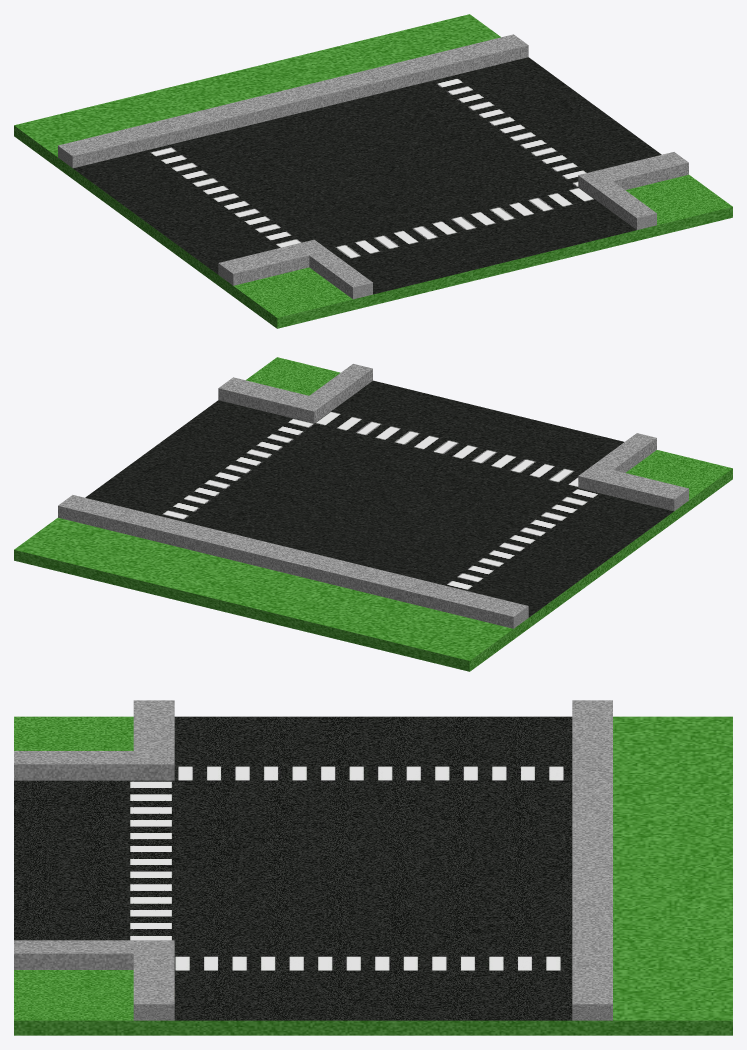
Rendered from CityRoad_T_Asset.fbx.
3 renders of one model, top to bottom at view 1: azimuth 30°, elevation 25°; view 2: azimuth 150°, elevation 25°; view 3: azimuth 270°, elevation 25°, orthographic. The views are drawn at different scales.
Visible parts, largest first — view 1: CityRoad_T; view 2: CityRoad_T; view 3: CityRoad_T.
Boxes of the visible parts, left/top/right/bottom form: CityRoad_T: left=14, top=14, right=732, bottom=328; CityRoad_T: left=14, top=357, right=732, bottom=671; CityRoad_T: left=14, top=700, right=732, bottom=1035.
Size of the model in its own units: 3.15 by 0.1506 by 3.15.
